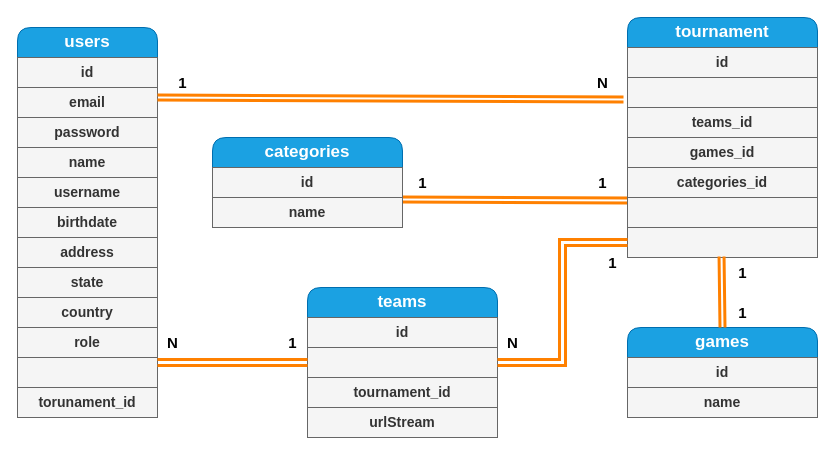
The diagram is 835 pixels wide and 455 high, and some of its shapes have lost their labels. Each missing label, with the centre of its shape:
date: point 722,92
organizerStream: point 722,242
payments: point 87,372
prize: point 722,212
users_id: point 402,362
